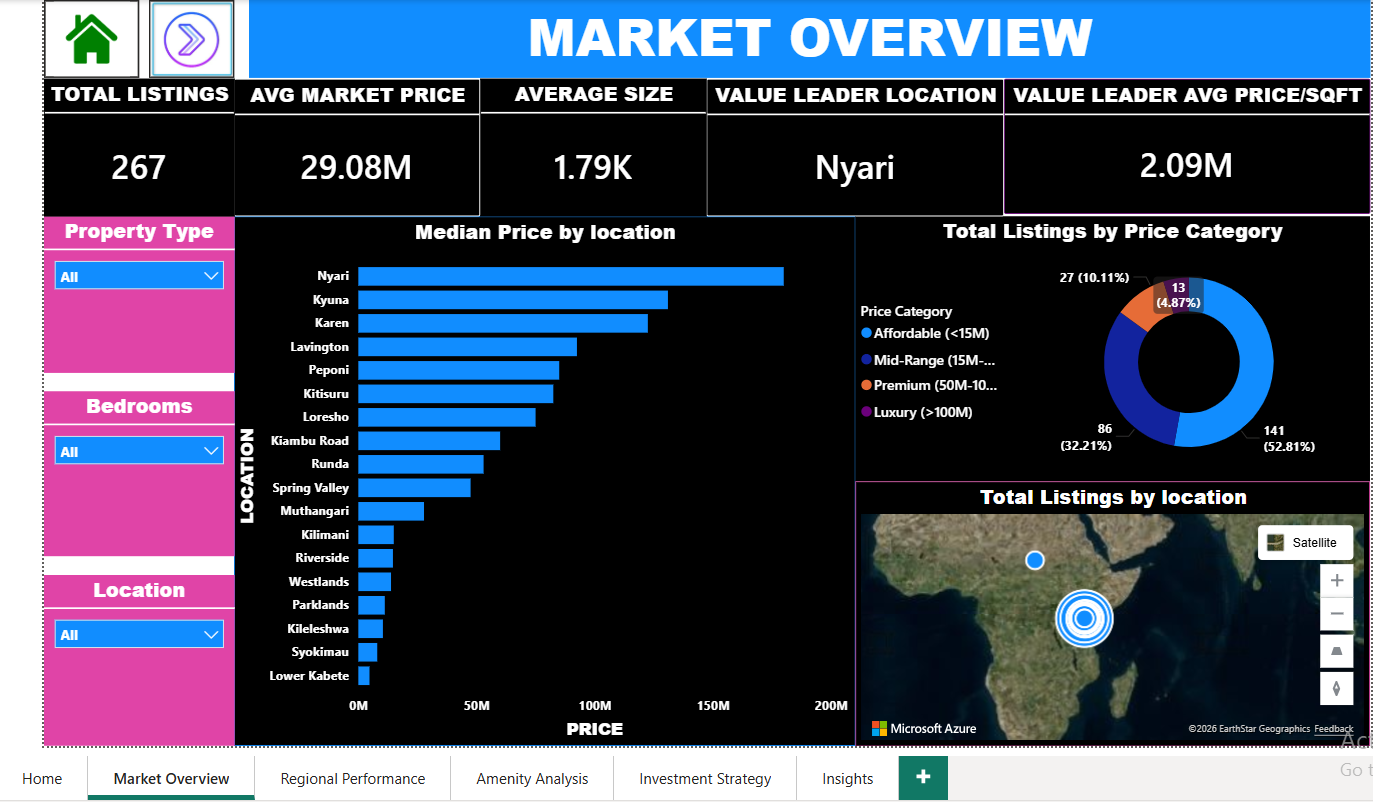

This screenshot's page, from the dashboard's own definition file:
{"tool":"powerbi","page":{"name":"Market Overview","canvas":[1280,720],"ordinal":1},"visuals":[{"type":"clusteredBarChart","fields":{"Category":["clean_listings.location"],"Y":["clean_listings.Median Price"]},"box":[183.4,208.7,599.6,511.5],"z":0},{"type":"slicer","title":"Property Type","fields":{"Values":["clean_listings.property_type"]},"box":[0,208.6,183.9,150.9],"z":1000},{"type":"donutChart","fields":{"Category":["clean_listings.Price Category"],"Y":["clean_listings.Total Listings"]},"box":[783,208.7,497.1,255.8],"z":2000},{"type":"azureMap","fields":{"Size":["clean_listings.Total Listings"],"Category":["clean_listings.location"]},"box":[783,464.5,497.1,255.8],"z":3000},{"type":"cardVisual","title":"VALUE LEADER AVG PRICE/SQFT","fields":{"Data":["clean_listings.Value Leader Avg Price per Sqft"]},"box":[926.5,76,353.5,130.3],"z":4000},{"type":"cardVisual","title":"VALUE LEADER LOCATION","fields":{"Data":["clean_listings.Value Leader Location"]},"box":[639.4,76,287.1,132.7],"z":5000},{"type":"cardVisual","title":"AVERAGE SIZE","fields":{"Data":["clean_listings.Average SIZE"]},"box":[421,76,218.4,132.7],"z":6000},{"type":"cardVisual","title":"AVG MARKET PRICE","fields":{"Data":["clean_listings.Average market price"]},"box":[183.4,76,237.7,132.7],"z":7000},{"type":"cardVisual","title":"TOTAL LISTINGS","fields":{"Data":["clean_listings.Total Listings"]},"box":[0,75.5,183.9,133.1],"z":8000},{"type":"textbox","title":"MARKET OVERVIEW","box":[197.6,0,1082.7,75.5],"z":9000},{"type":"slicer","title":"Bedrooms","fields":{"Values":["clean_listings.bedrooms"]},"box":[0,377.4,183.9,159.2],"z":10000},{"type":"slicer","title":"Location","fields":{"Values":["clean_listings.location"]},"box":[0,554.4,183.9,164.7],"z":11000},{"type":"image","box":[0,0,91.9,75.5],"z":12000},{"type":"image","box":[101.5,0,82.3,75.5],"z":13000}]}

Visuals, with their boxes on the page's 1280x720 design canvas (x1, y1, x2, y2). These are canvas units, not pixel positions in the 1373x802 screenshot, which may show the page scaled, cropped or inside an application window:
clusteredBarChart - clean_listings.location x clean_listings.Median Price: rect(183, 209, 783, 720)
"Property Type" slicer: rect(0, 209, 184, 360)
donutChart - clean_listings.Price Category x clean_listings.Total Listings: rect(783, 209, 1280, 464)
azureMap - clean_listings.Total Listings x clean_listings.location: rect(783, 464, 1280, 720)
"VALUE LEADER AVG PRICE/SQFT" cardVisual: rect(926, 76, 1280, 206)
"VALUE LEADER LOCATION" cardVisual: rect(639, 76, 926, 209)
"AVERAGE SIZE" cardVisual: rect(421, 76, 639, 209)
"AVG MARKET PRICE" cardVisual: rect(183, 76, 421, 209)
"TOTAL LISTINGS" cardVisual: rect(0, 76, 184, 209)
"MARKET OVERVIEW" textbox: rect(198, 0, 1280, 76)
"Bedrooms" slicer: rect(0, 377, 184, 537)
"Location" slicer: rect(0, 554, 184, 719)
image: rect(0, 0, 92, 76)
image: rect(102, 0, 184, 76)
